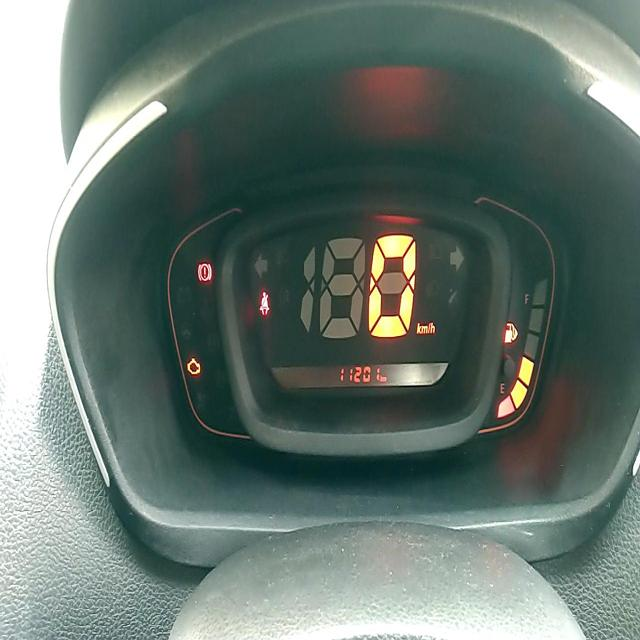odometer: (337, 363, 382, 384)
